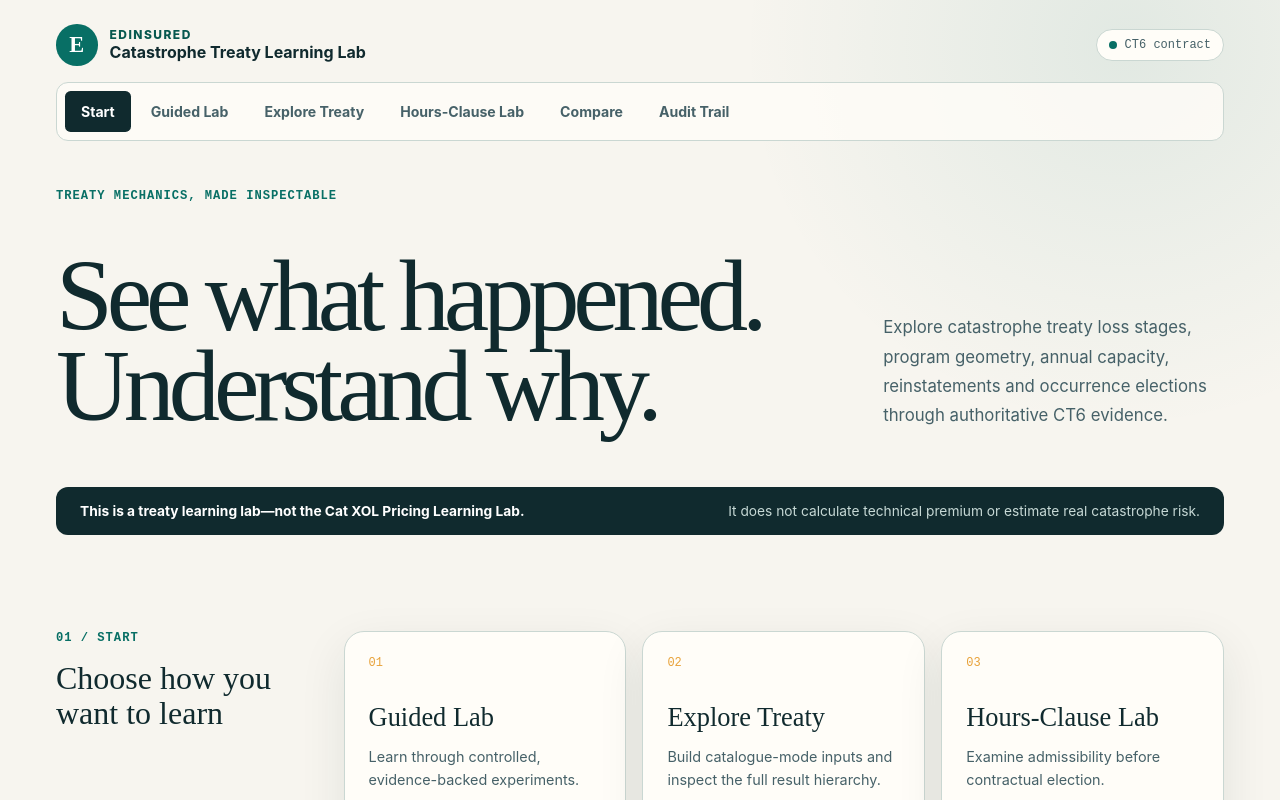
it: CT7 foundation routes › supports keyboard-accessible primary navigation
The image size is (1280, 800).
Click the link "Hours-Clause Lab" at (462, 111), box top-left (400, 103), bottom-right (524, 120)
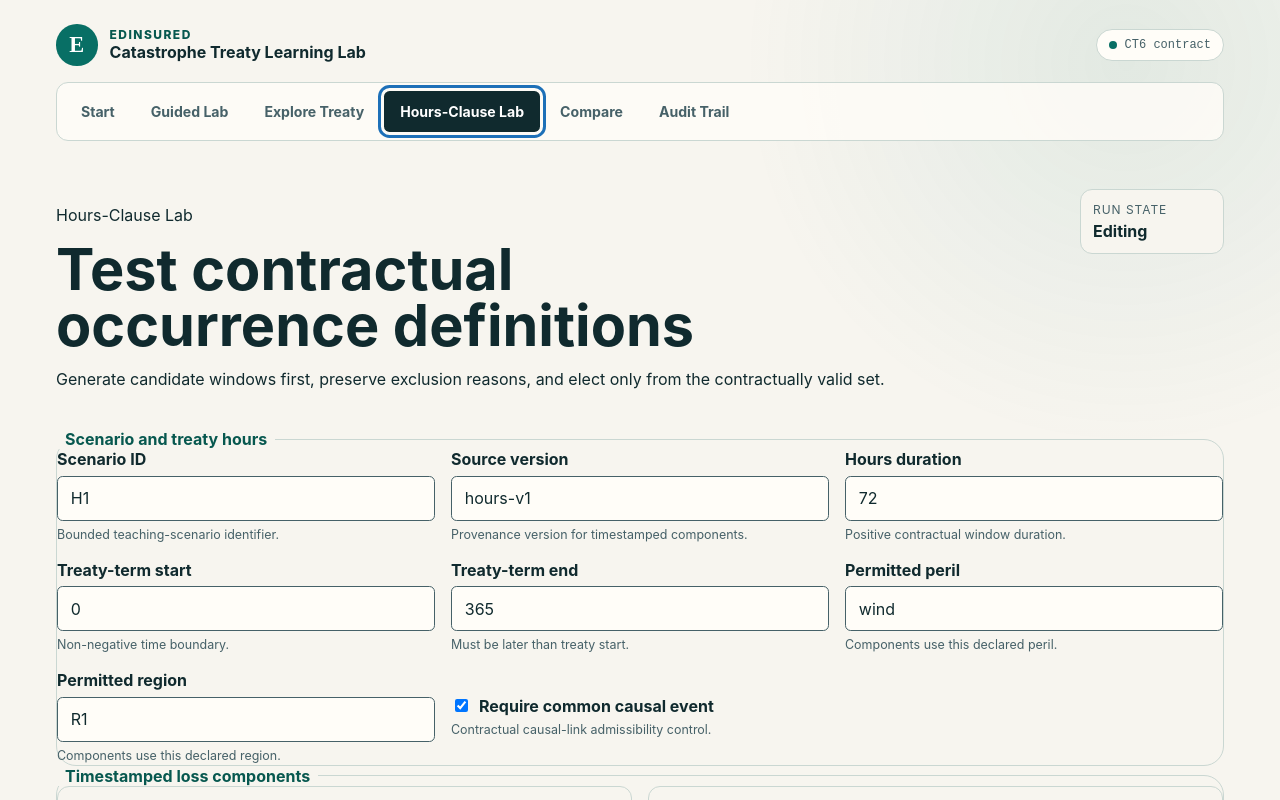
Expected: the heading "Test contractual occurrence definitions" is shown, top-left (56, 241), bottom-right (794, 354)
